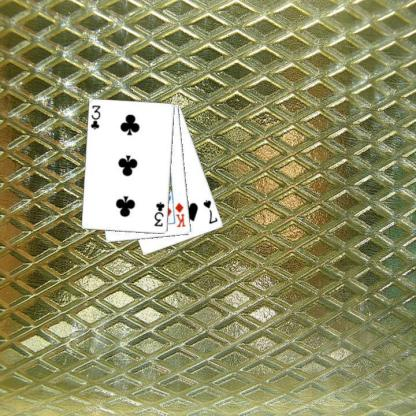3C: (152, 200, 166, 228), (88, 103, 102, 131)
7S: (200, 198, 219, 225)
KD: (172, 200, 186, 229)
